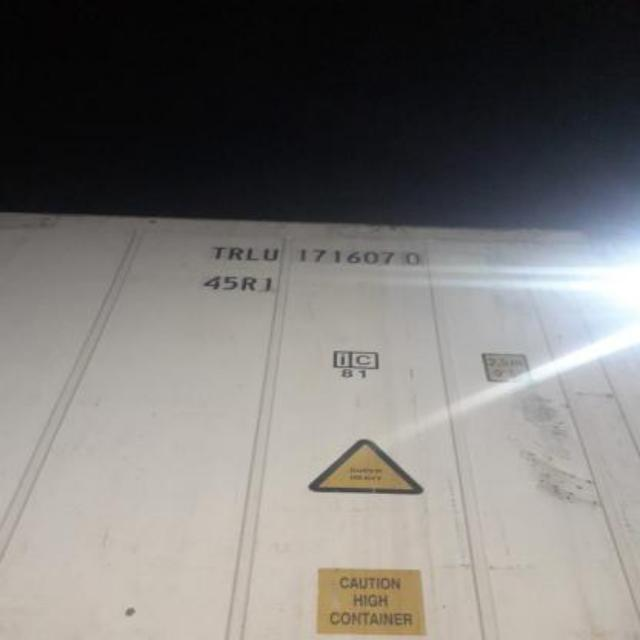0: (405, 244, 425, 270), (362, 244, 376, 272)
1: (332, 240, 344, 270), (294, 245, 310, 263)
6: (342, 242, 363, 268)
7: (378, 243, 398, 270), (310, 244, 330, 266)
L: (244, 241, 262, 267)
R: (227, 242, 243, 264)
T: (210, 239, 226, 265)
U: (264, 239, 282, 265)
